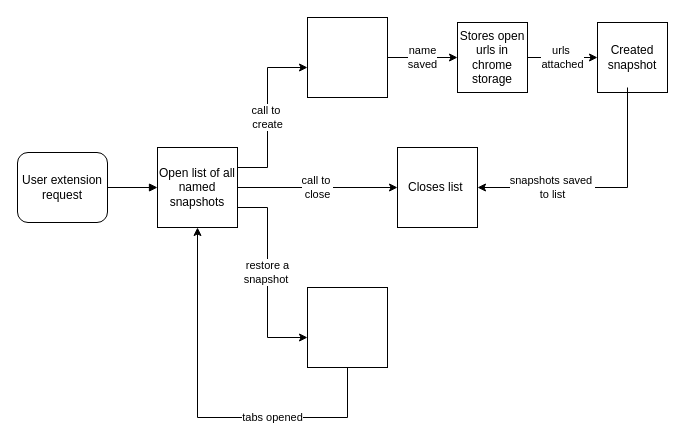
The diagram is 685 pixels wide and 443 high, and some of its shapes have lost their labels. The centre of each missing label's shape, as x and y in pixels:
"Ask user for name" belongs at point 347,57.
"Open selected snapshot tabs in a new window" belongs at point 347,327.
